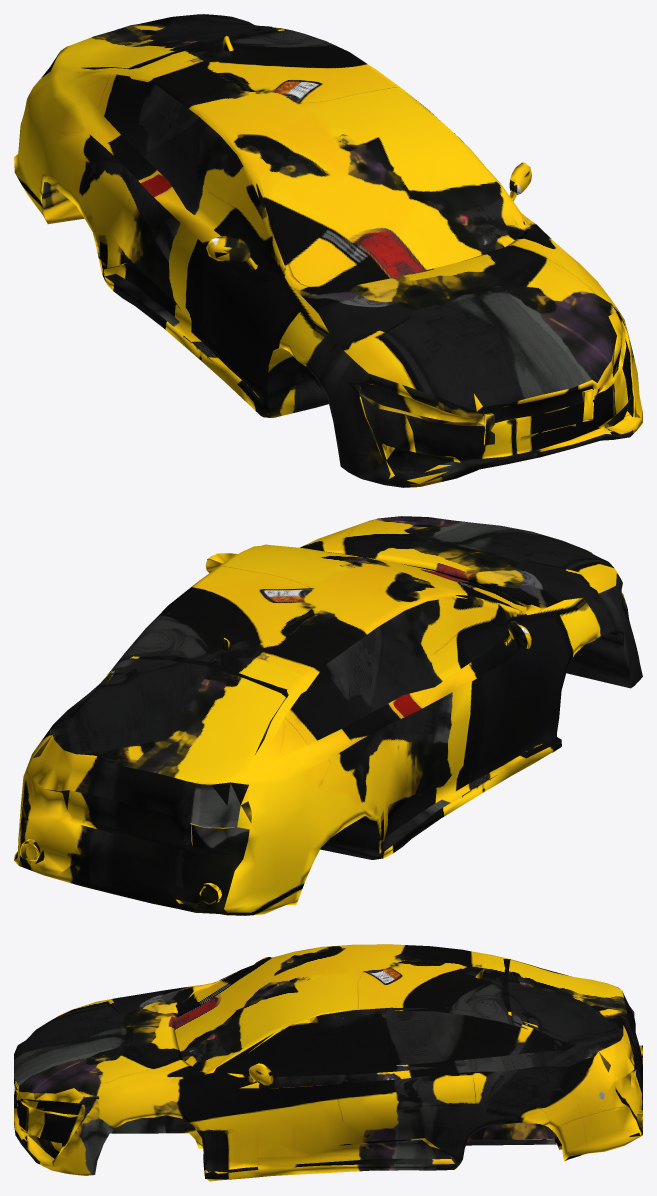
3 views of the same model, one above another, from view 1: azimuth 30°, elevation 25°; view 2: azimuth 150°, elevation 25°; view 3: azimuth 270°, elevation 25° (orthographic). The views are drawn at different scales.
Parts seen in each view (by area): view 1: body; view 2: body; view 3: body.
Part boxes in pixels (box(x1,y1,x2,y2)): body: box(14, 14, 642, 487); body: box(14, 516, 642, 915); body: box(14, 944, 642, 1181).
Size of the model in its own units: 2 by 1.26 by 4.5.
